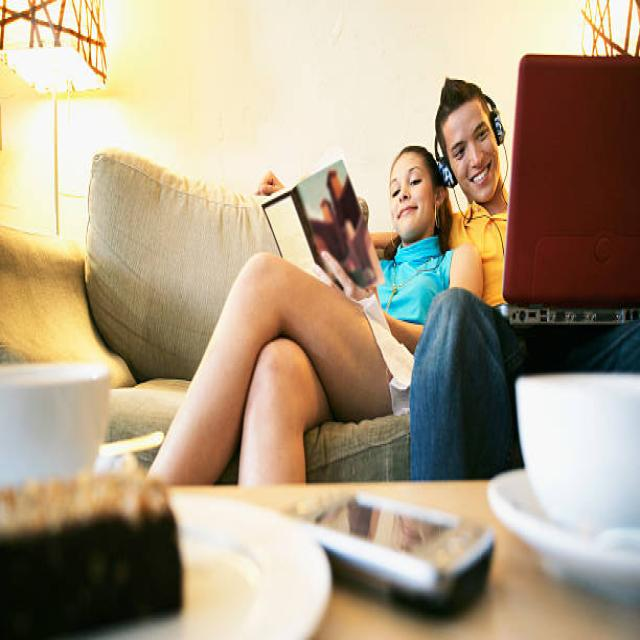Headphone: (432, 92, 505, 190)
